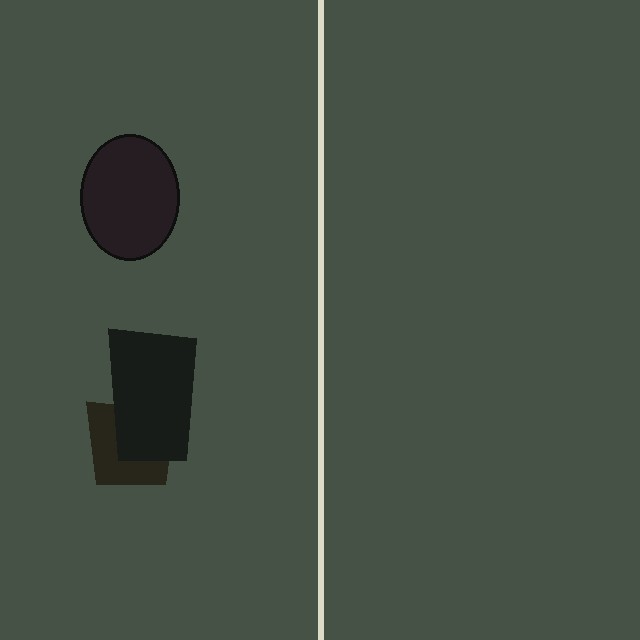damaged_surface: (108, 328, 196, 460), (86, 401, 175, 484)
pothole: (80, 134, 179, 260)
